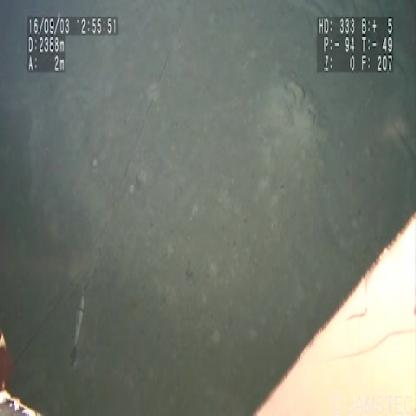Rov: (1, 214, 415, 413)
